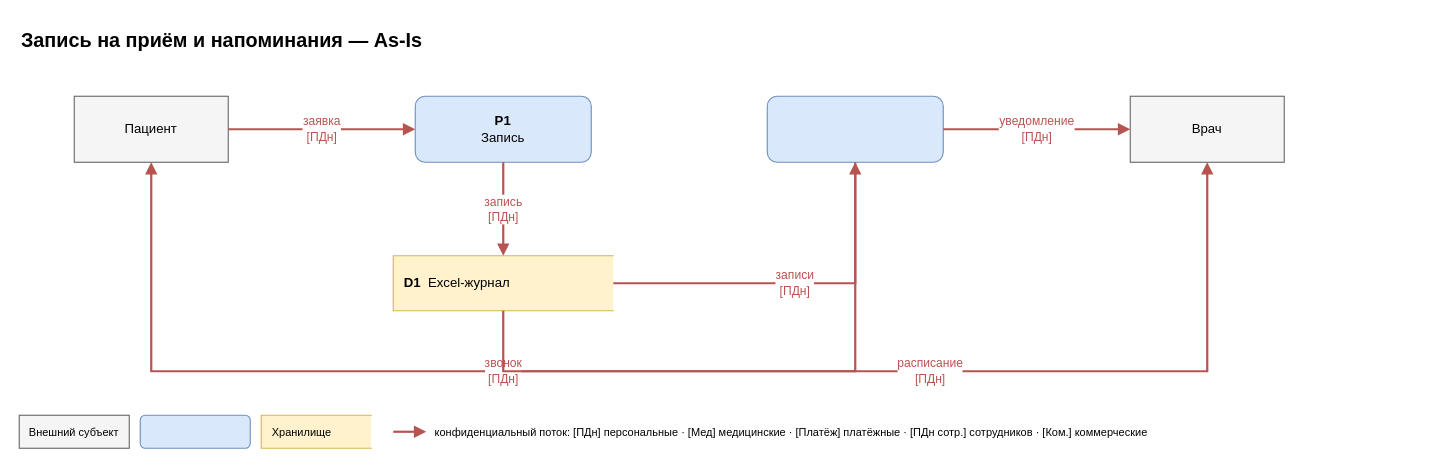
Image size: 1442x468. Some labels were removed from this diagram. Each missing label, with the centre of its shape:
"P2 Напоминание" belongs at pixel 854 128.
"Процесс" belongs at pixel 194 431.
